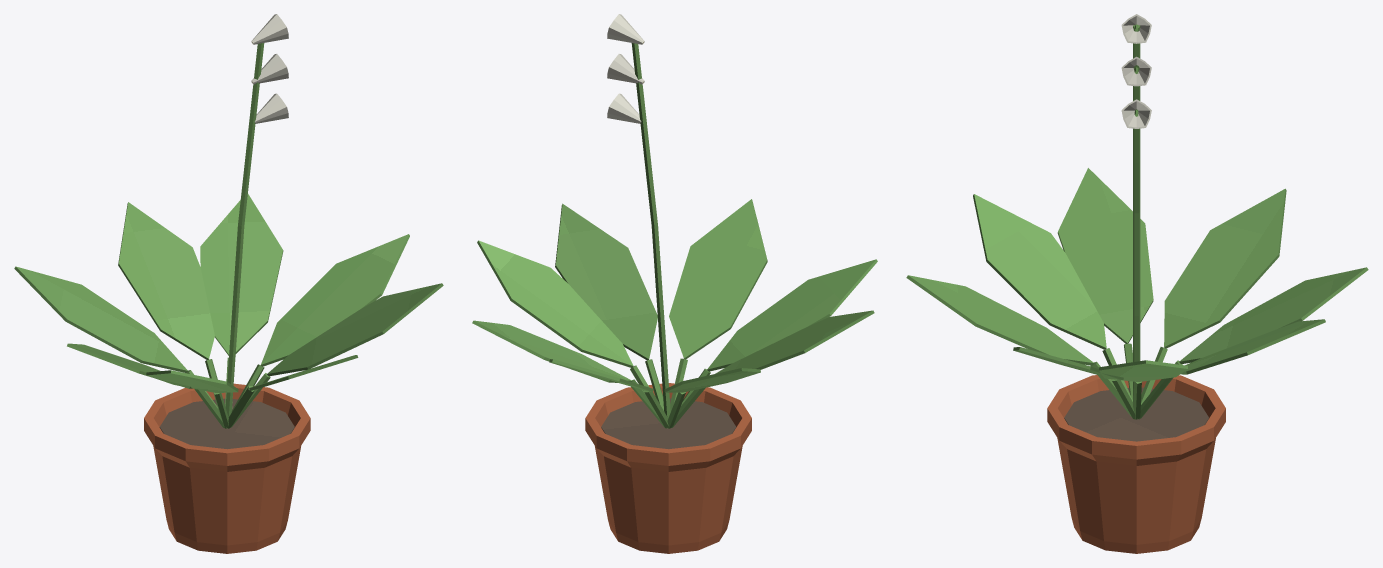
Rendered from hosta.glb.
3 renders of one model, left to right at view 1: azimuth 30°, elevation 25°; view 2: azimuth 150°, elevation 25°; view 3: azimuth 270°, elevation 25°, orthographic. The views are drawn at different scales.
Visible parts, largest first — view 1: hosta/review-terra-vessel, hosta/leaf-002, hosta/leaf-012, hosta/leaf-006, hosta/leaf-008, hosta/leaf-016, hosta/review-rooted-soil, hosta/stem-017, hosta/leaf-004, hosta/leaf-014, hosta/hollow-corolla-019, hosta/hollow-corolla-025 (+1 smaller); view 2: hosta/review-terra-vessel, hosta/leaf-010, hosta/leaf-016, hosta/leaf-006, hosta/leaf-004, hosta/review-rooted-soil, hosta/leaf-014, hosta/stem-017, hosta/leaf-012, hosta/leaf-008, hosta/hollow-corolla-019, hosta/hollow-corolla-025 (+2 smaller); view 3: hosta/review-terra-vessel, hosta/leaf-008, hosta/leaf-014, hosta/leaf-004, hosta/review-rooted-soil, hosta/leaf-002, hosta/leaf-010, hosta/stem-017, hosta/leaf-012, hosta/leaf-006, hosta/leaf-016, hosta/hollow-corolla-025 (+2 smaller).
Part boxes in pixels (left/top/right/bottom): hosta/review-terra-vessel: left=144, top=383, right=310, bottom=553; hosta/leaf-002: left=118, top=202, right=214, bottom=359; hosta/leaf-012: left=200, top=194, right=283, bottom=355; hosta/leaf-006: left=261, top=234, right=409, bottom=366; hosta/leaf-008: left=14, top=266, right=187, bottom=372; hosta/leaf-016: left=267, top=283, right=443, bottom=376; hosta/review-rooted-soil: left=159, top=398, right=294, bottom=449; hosta/stem-017: left=225, top=43, right=264, bottom=417; hosta/leaf-004: left=146, top=370, right=238, bottom=392; hosta/leaf-014: left=67, top=343, right=192, bottom=388; hosta/hollow-corolla-019: left=251, top=14, right=288, bottom=44; hosta/hollow-corolla-025: left=254, top=93, right=288, bottom=123; hosta/review-terra-vessel: left=585, top=383, right=751, bottom=553; hosta/leaf-010: left=669, top=199, right=767, bottom=359; hosta/leaf-016: left=555, top=203, right=657, bottom=360; hosta/leaf-006: left=477, top=240, right=633, bottom=367; hosta/leaf-004: left=707, top=259, right=877, bottom=371; hosta/review-rooted-soil: left=601, top=398, right=736, bottom=449; hosta/leaf-014: left=715, top=310, right=874, bottom=373; hosta/stem-017: left=631, top=43, right=670, bottom=418; hosta/leaf-012: left=472, top=320, right=632, bottom=382; hosta/leaf-008: left=664, top=368, right=760, bottom=392; hosta/hollow-corolla-019: left=607, top=14, right=644, bottom=44; hosta/hollow-corolla-025: left=607, top=93, right=641, bottom=123; hosta/review-terra-vessel: left=1047, top=375, right=1225, bottom=553; hosta/leaf-008: left=1164, top=188, right=1286, bottom=348; hosta/leaf-014: left=1057, top=168, right=1153, bottom=343; hosta/leaf-004: left=973, top=194, right=1106, bottom=349; hosta/review-rooted-soil: left=1064, top=387, right=1208, bottom=441; hosta/leaf-002: left=1179, top=267, right=1368, bottom=363; hosta/leaf-010: left=906, top=275, right=1094, bottom=365; hosta/stem-017: left=1133, top=24, right=1140, bottom=402; hosta/leaf-012: left=1181, top=319, right=1325, bottom=374; hosta/leaf-006: left=1099, top=360, right=1187, bottom=381; hosta/leaf-016: left=1013, top=347, right=1123, bottom=380; hosta/hollow-corolla-025: left=1121, top=99, right=1151, bottom=128.
Bounding box in the file's own units: 0.488 × 0.6331 × 0.4915.
5 materials, 5 textured.
